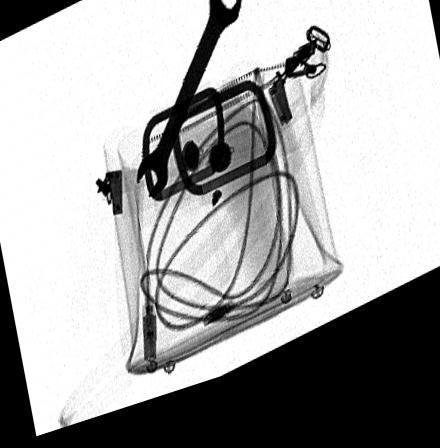Wrench: (135, 0, 241, 207)
